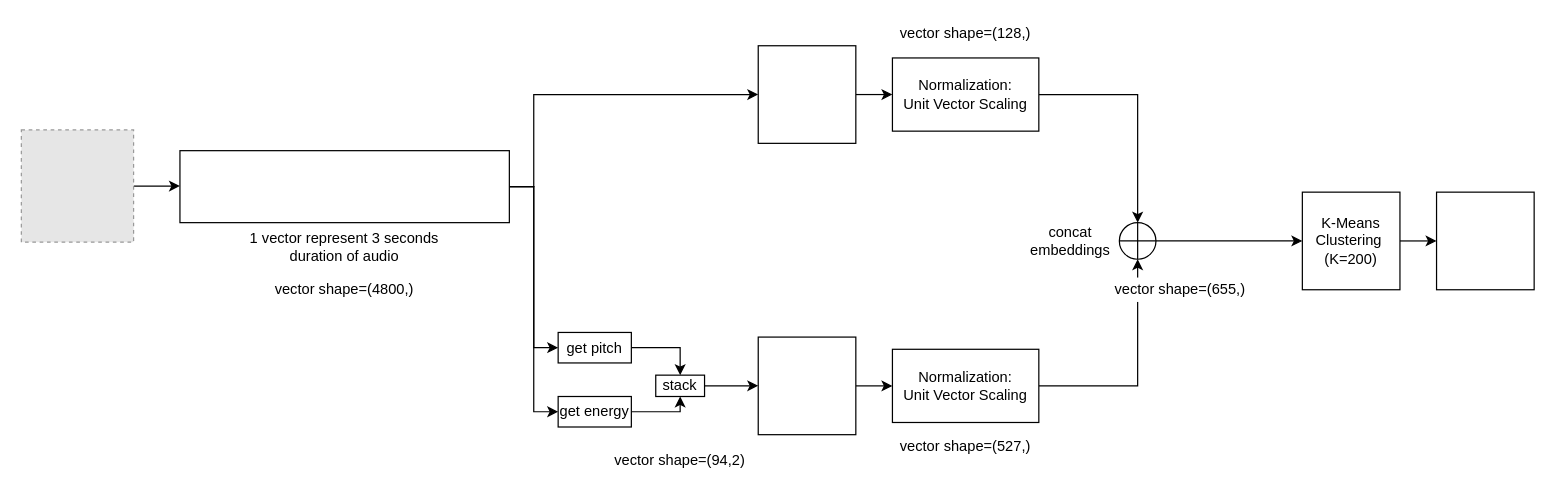
Some shapes in this 1556 by 493 pixel diagram are drawn without their labels. Grey dashed boxes stand in for pictures. Here are the shapes that lost their labels. From the top down, the box of each, then its label:
(757, 45, 856, 143): Audio Spectogram Transformer (AST)
(179, 149, 509, 223): Total samples = 3 seconds * 16000 sample rate Total samples of 48000 per segment
(1435, 191, 1534, 290): Train random forest classifier
(757, 336, 856, 435): Inference contrastive-trained RNN
